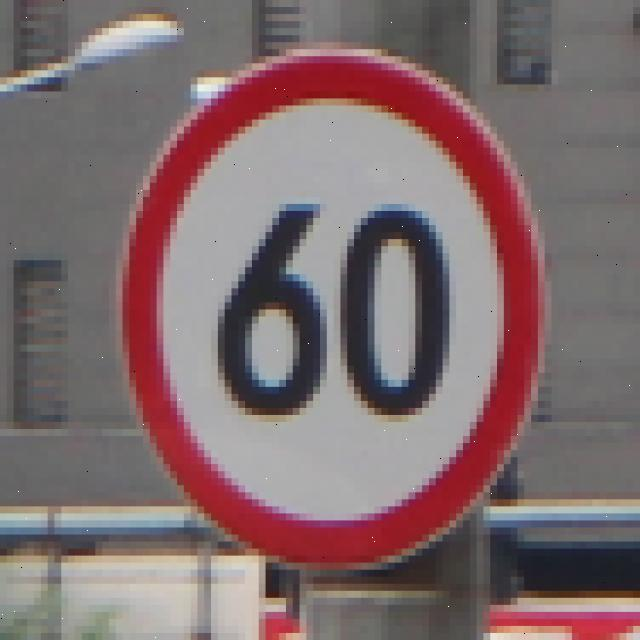speed limit 60: (115, 42, 552, 571)
